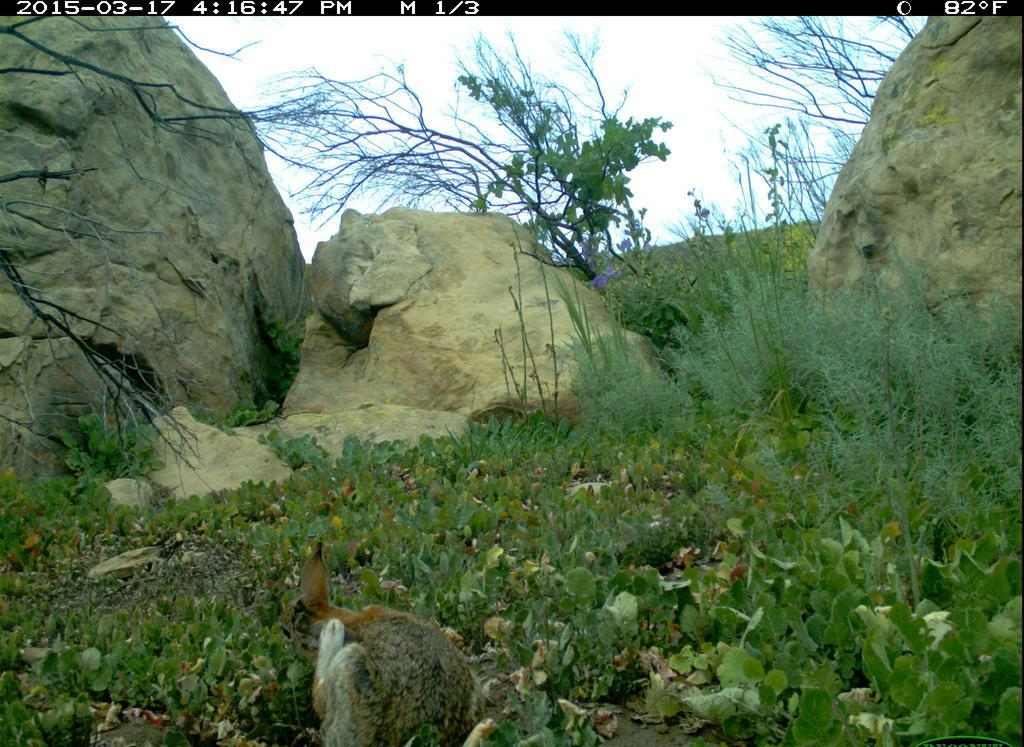rabbit: (264, 533, 493, 747)
